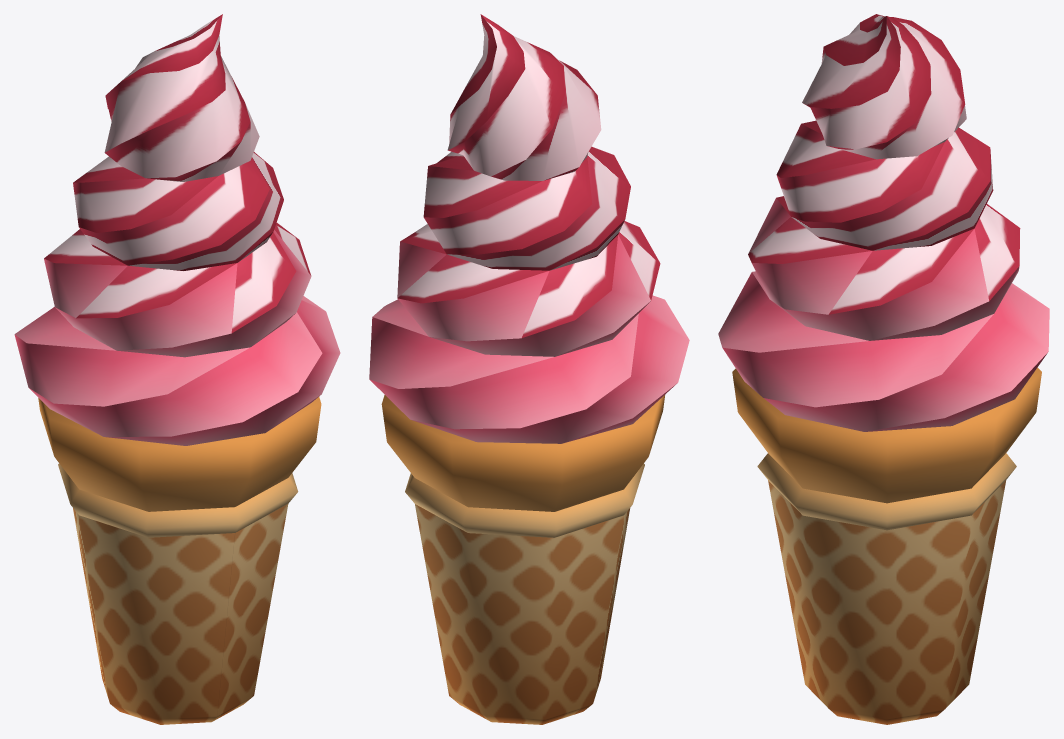
The model's file is m_Softserve08.fbx.
3 renders of one model, left to right at view 1: azimuth 30°, elevation 25°; view 2: azimuth 150°, elevation 25°; view 3: azimuth 270°, elevation 25°, orthographic. The views are drawn at different scales.
Parts seen in each view (by area): view 1: m_Softserve08; view 2: m_Softserve08; view 3: m_Softserve08.
Part boxes in pixels (box(x1,y1,x2,y2)): m_Softserve08: box(14, 14, 340, 724); m_Softserve08: box(369, 14, 689, 724); m_Softserve08: box(718, 14, 1049, 724).
Size of the model in its own units: 11.45 by 26 by 11.13.
